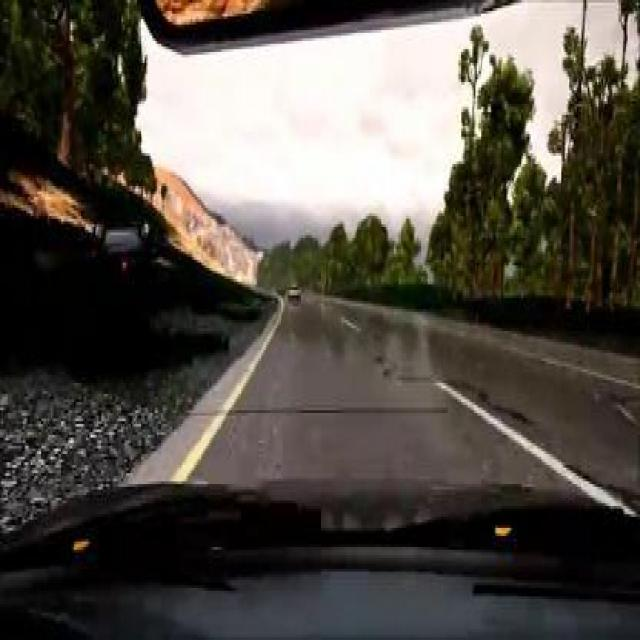accident: (85, 211, 158, 265)
